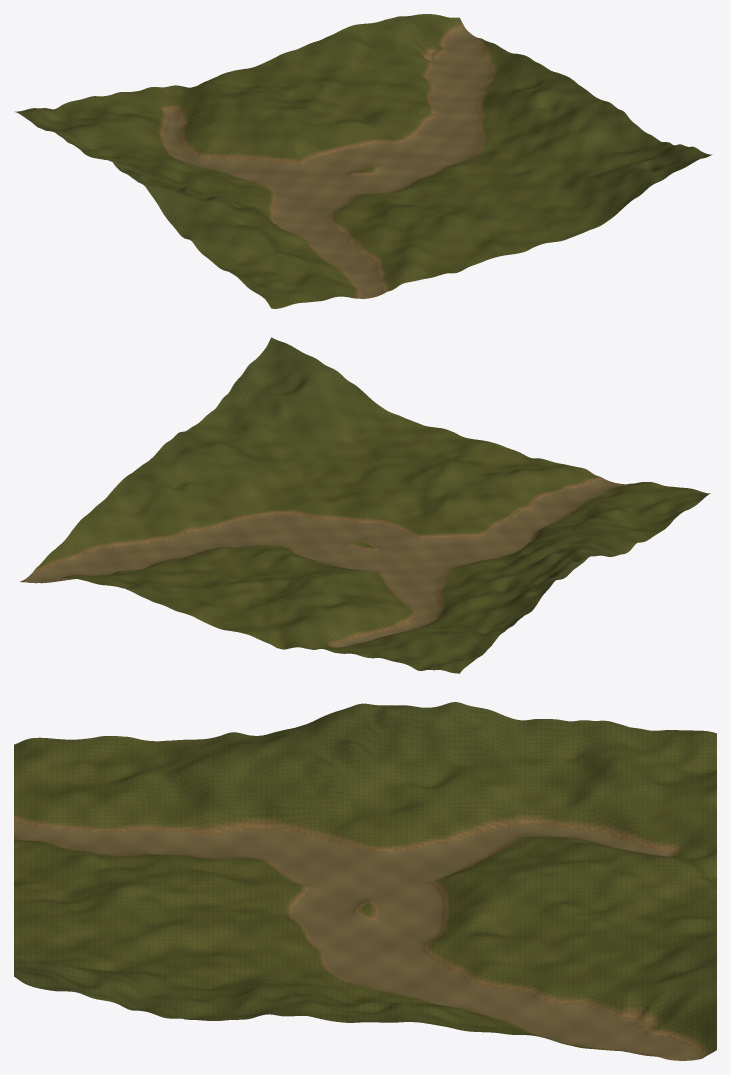
File: river-terrain.glb
3 views of the same model, one above another, from view 1: azimuth 30°, elevation 25°; view 2: azimuth 150°, elevation 25°; view 3: azimuth 270°, elevation 25° (orthographic). The views are drawn at different scales.
Parts seen in each view (by area): view 1: Tembeling valley and river island; view 2: Tembeling valley and river island; view 3: Tembeling valley and river island.
Boxes of the visible parts, bbox=[...] form: Tembeling valley and river island: bbox=[15, 14, 712, 308]; Tembeling valley and river island: bbox=[20, 337, 710, 673]; Tembeling valley and river island: bbox=[14, 702, 716, 1060].
Size of the model in its own units: 534 by 71.11 by 534.
2 materials, 2 textured.
